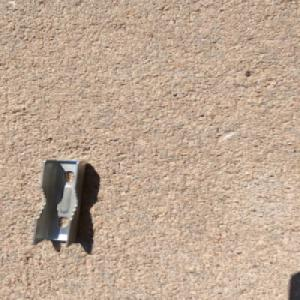ClampPart: (30, 157, 89, 248)
